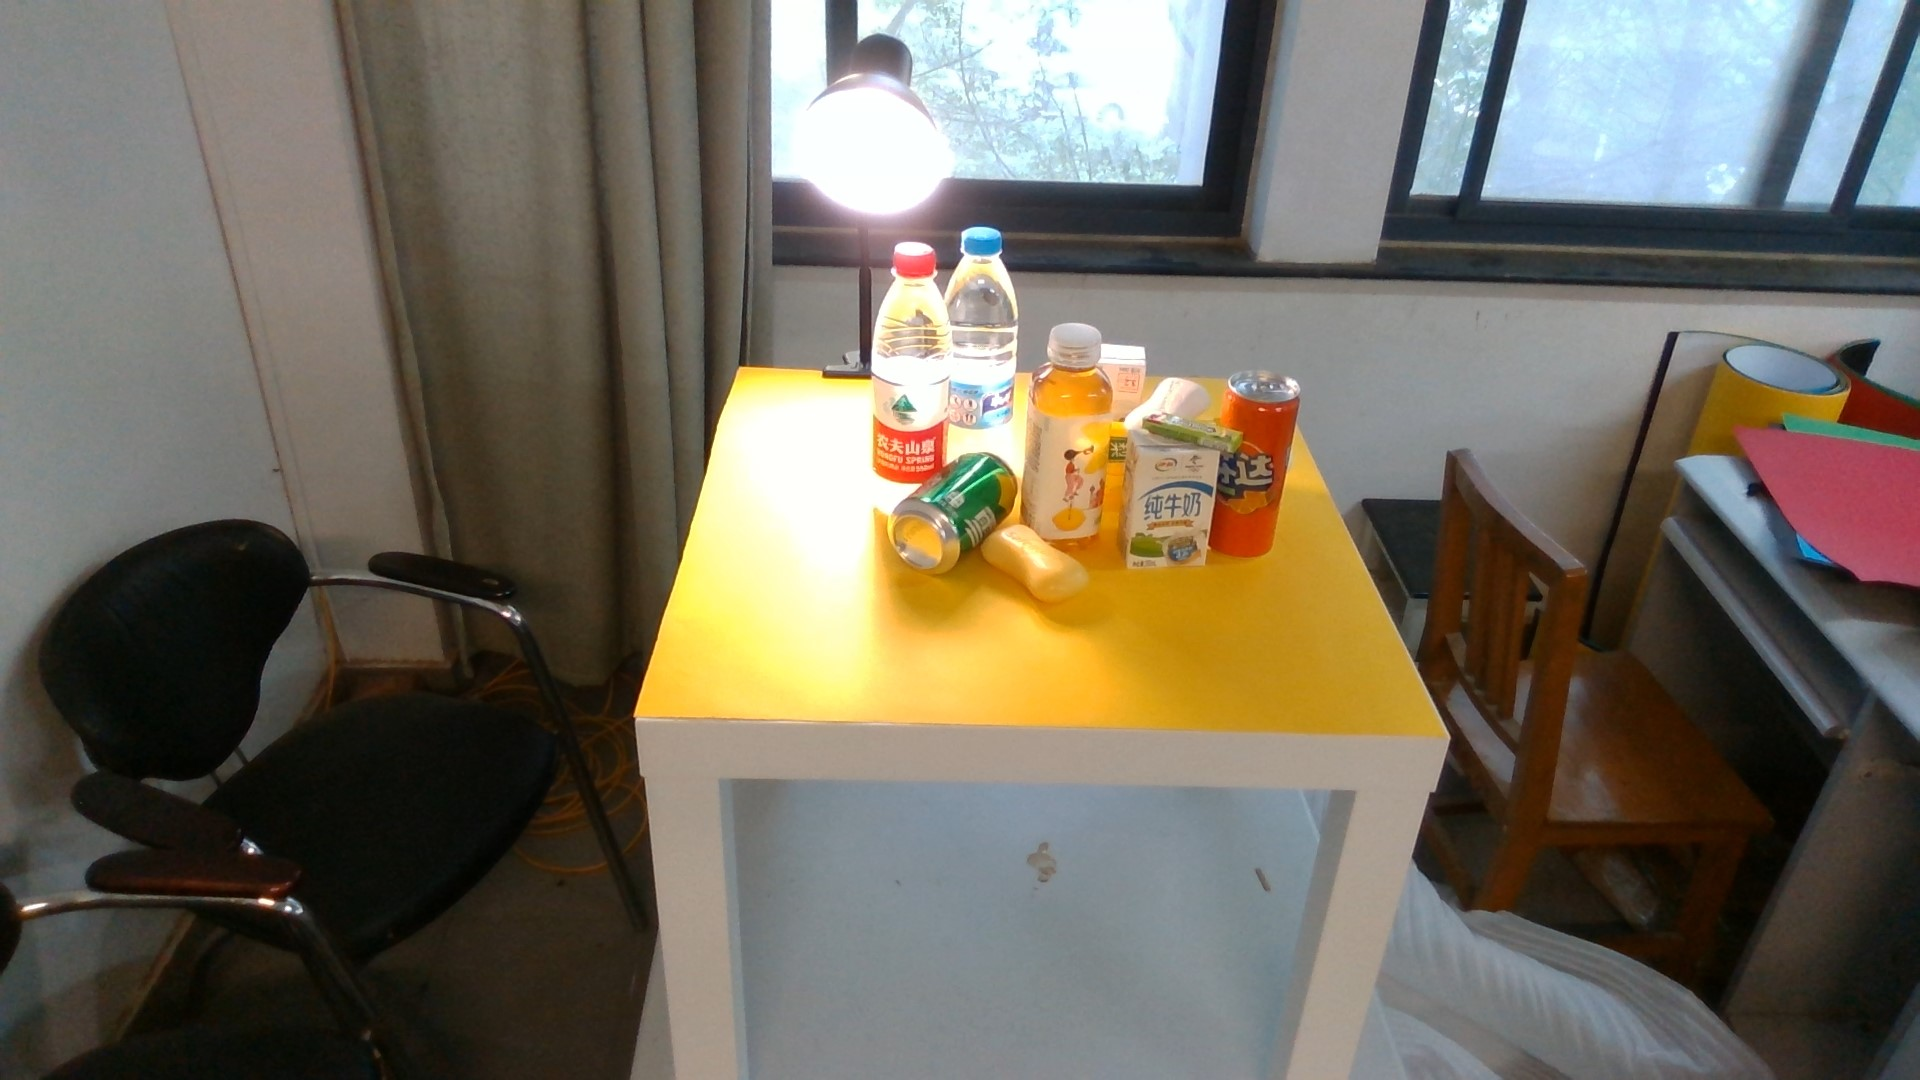BB002: (1145, 407, 1244, 456)
BB003: (984, 524, 1091, 607), (1143, 373, 1213, 410)
BB009: (1116, 342, 1147, 400)
BB013: (1120, 452, 1220, 567)
ZC001: (890, 473, 982, 574)
ZC003: (1240, 375, 1300, 562)
ZC012: (1023, 323, 1113, 530)
ZC014: (873, 241, 949, 473)
ZC019: (949, 222, 1019, 444)
